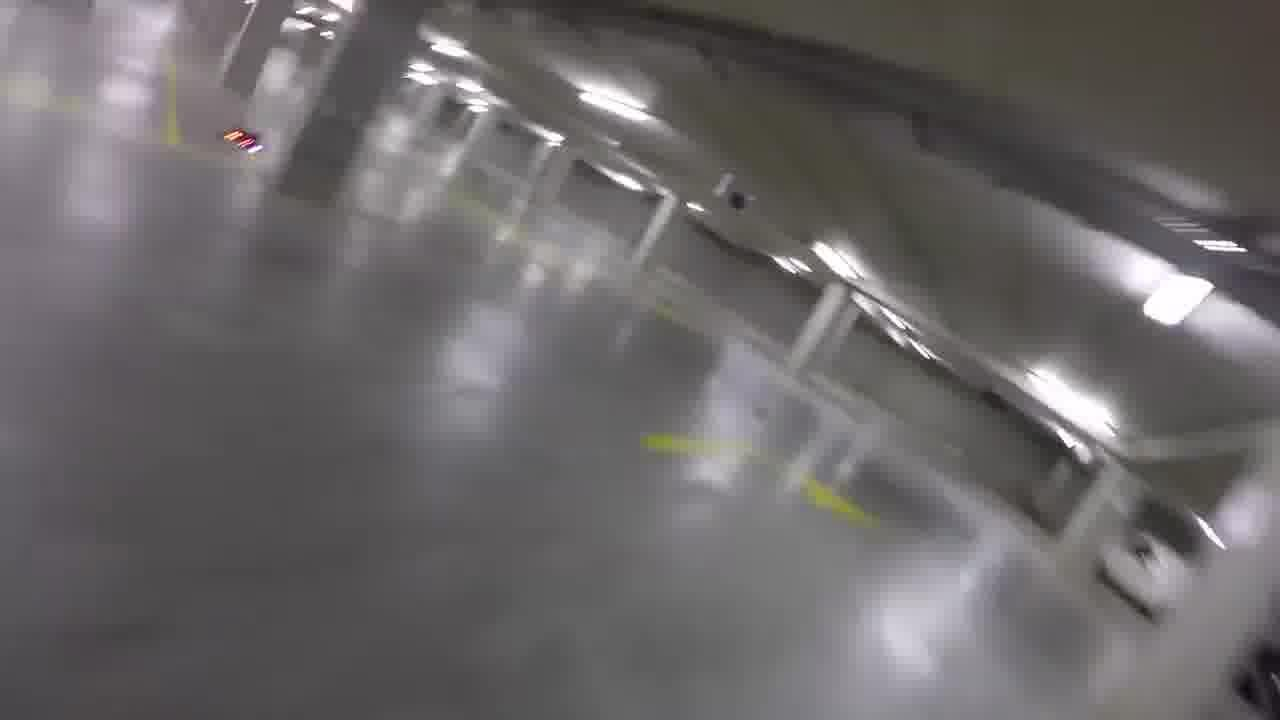drone: (209, 119, 283, 160)
